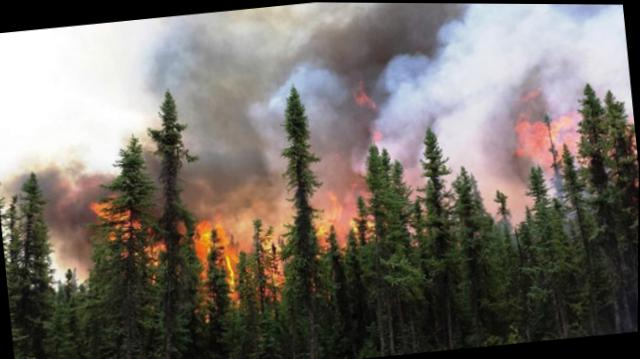fire: (87, 125, 408, 333), (506, 77, 639, 191)
